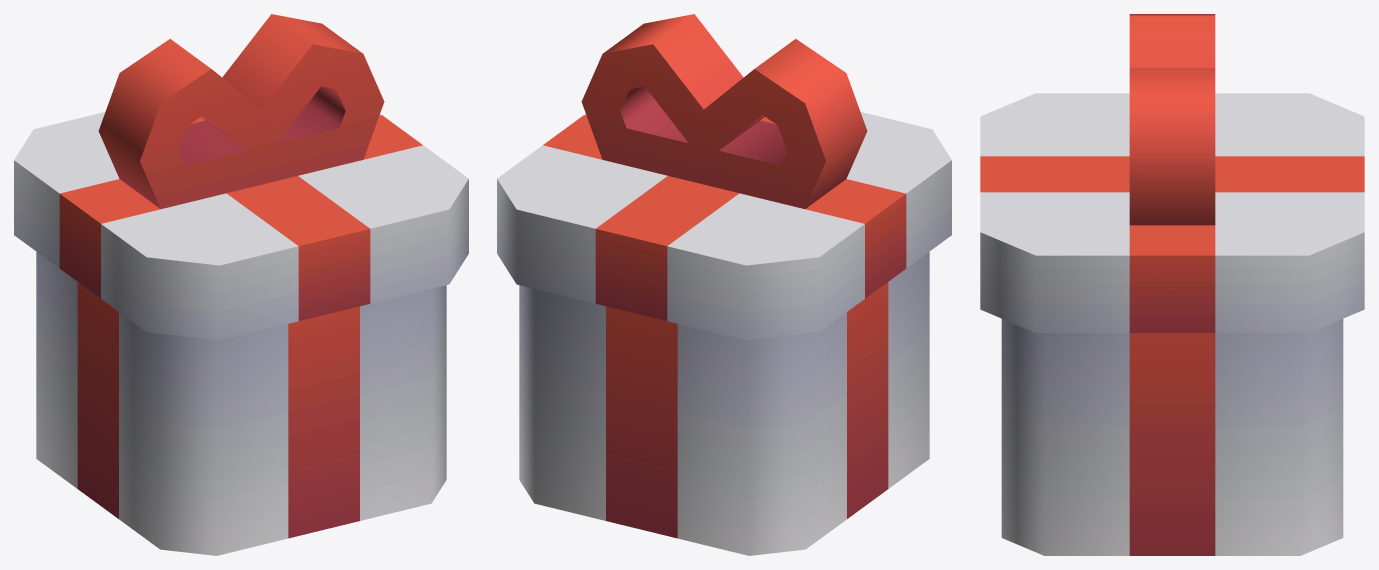
The model's file is k-holiday-present-a-cube.glb.
The picture shows the model from 3 angles, left to right: view 1: azimuth 30°, elevation 25°; view 2: azimuth 150°, elevation 25°; view 3: azimuth 270°, elevation 25°; orthographic projection. The views are drawn at different scales.
Parts seen in each view (by area): view 1: lid, present-a-cube; view 2: lid, present-a-cube; view 3: lid, present-a-cube.
Boxes of the visible parts, left/top/right/bottom form: lid: left=14, top=14, right=468, bottom=340; present-a-cube: left=36, top=252, right=446, bottom=555; lid: left=497, top=14, right=951, bottom=340; present-a-cube: left=519, top=252, right=929, bottom=555; lid: left=980, top=14, right=1364, bottom=332; present-a-cube: left=1001, top=319, right=1343, bottom=555.
Bounding box in the file's own units: 0.45 × 0.5707 × 0.45.
1 material, 1 textured.
